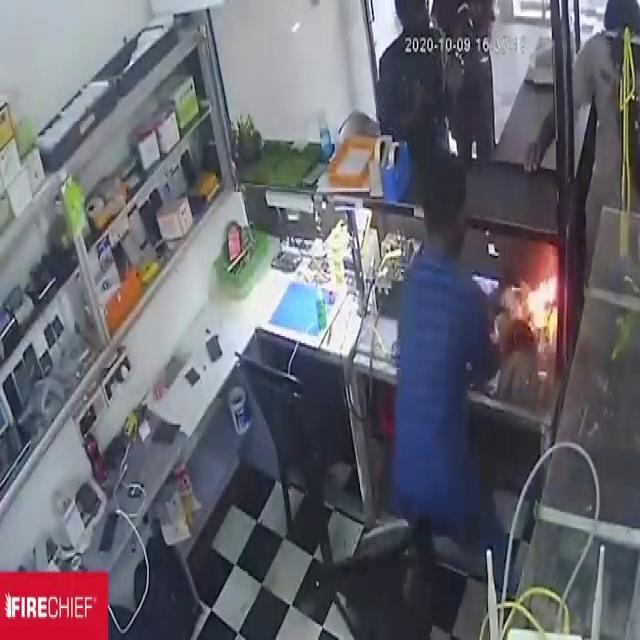fire: (514, 228, 567, 397)
